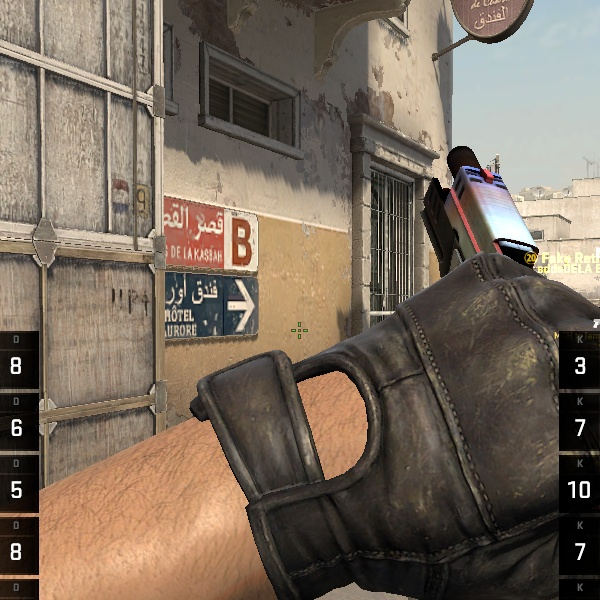t_head: (255, 330, 412, 484)
